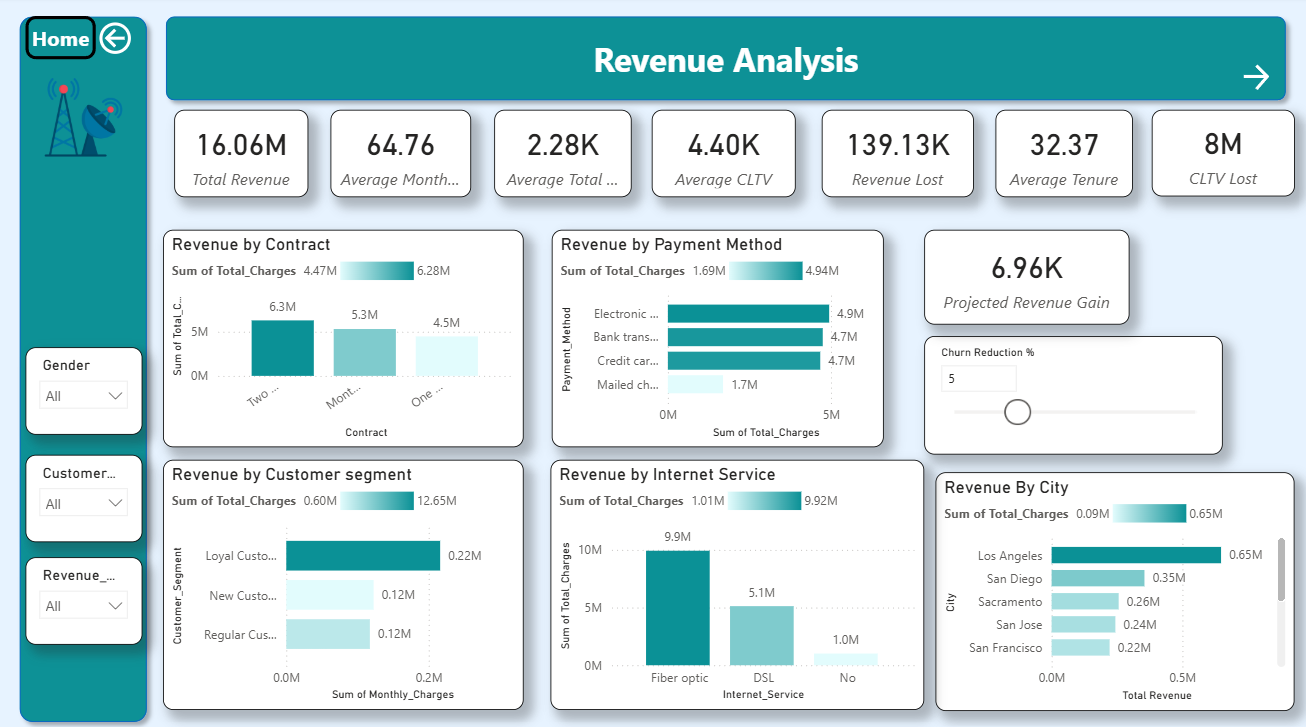

What the dashboard file says about the page in this screenshot:
{"tool":"powerbi","page":{"name":"Revenue Analysis","canvas":[1280,720],"ordinal":3},"visuals":[{"type":"card","fields":{"Values":["TELCO.Total Revenue"]},"box":[171.9,111.6,130.8,85.9],"z":0},{"type":"card","fields":{"Values":["TELCO.Average Monthly Charges"]},"box":[325.8,111.6,137.3,85.9],"z":1000},{"type":"card","fields":{"Values":["TELCO.Average Total Charges"]},"box":[484.9,111.6,134.7,85.9],"z":2000},{"type":"card","fields":{"Values":["TELCO.Average CLTV"]},"box":[640.1,111.6,141.1,85.9],"z":3000},{"type":"card","fields":{"Values":["TELCO.Revenue Lost"]},"box":[805.6,111.6,148.8,85.9],"z":4000},{"type":"card","fields":{"Values":["TELCO.CLTV Lost"]},"box":[1128.9,111.6,139.8,84.7],"z":5000},{"type":"card","fields":{"Values":["TELCO.Average Tenure"]},"box":[976.2,111.6,134.7,85.9],"z":6000},{"type":"shape","box":[155.2,11.5,1113.5,100.1],"z":7000},{"type":"clusteredBarChart","title":"Revenue By City","fields":{"Category":["TELCO.City"],"Y":["TELCO.Total Revenue"]},"box":[917.2,465.7,351.5,233.5],"z":8000},{"type":"shape","box":[12.8,11.5,142.4,708.1],"z":9000},{"type":"slicer","fields":{"Values":["TELCO.Gender"]},"box":[26.9,343.8,114.2,85.9],"z":10000},{"type":"slicer","fields":{"Values":["TELCO.Customer_Segment"]},"box":[26.9,449,114.2,85.9],"z":11000},{"type":"clusteredBarChart","title":"Revenue by Payment Method","fields":{"Category":["TELCO.Payment_Method"],"Y":["Sum(TELCO.Total_Charges)"]},"box":[541.4,228.3,324.6,212.9],"z":12000},{"type":"clusteredColumnChart","title":"Revenue by Contract","fields":{"Y":["Sum(TELCO.Total_Charges)"],"Category":["TELCO.Contract"]},"box":[161.6,228.3,352.8,212.9],"z":13000},{"type":"slicer","fields":{"Values":["TELCO.Revenue_Segment"]},"box":[26.9,549,114.2,85.9],"z":14000},{"type":"clusteredBarChart","title":"Revenue by Customer segment","fields":{"Category":["TELCO.Customer_Segment"],"Y":["Sum(TELCO.Monthly_Charges)"]},"box":[161.6,454.1,352.8,245],"z":15000},{"type":"clusteredColumnChart","title":"Revenue by Internet Service","fields":{"Y":["Sum(TELCO.Total_Charges)"],"Category":["TELCO.Internet_Service"]},"box":[540.1,454.1,365.6,245],"z":16000},{"type":"slicer","fields":{"Values":["Churn Reduction %.Churn Reduction %"]},"box":[906.4,332.9,292,116.3],"z":17000},{"type":"card","fields":{"Values":["TELCO.Projected Revenue Gain"]},"box":[906.4,228.6,200.8,92.5],"z":18000},{"type":"actionButton","box":[26.4,19.8,68.7,42.3],"z":19000},{"type":"actionButton","box":[93.8,21.1,60.8,41],"z":20000},{"type":"actionButton","box":[1212.6,62.1,67.4,34.4],"z":21000},{"type":"image","box":[45.2,79.5,77,78.3],"z":21001}]}

Visuals, with their boxes in screenshot pixels (x1, y1, x2, y2), scaled from the page's 1280x720 canvas onto the 1306x727 screenshot:
card - TELCO.Total Revenue: rect(175, 113, 309, 199)
card - TELCO.Average Monthly Charges: rect(332, 113, 473, 199)
card - TELCO.Average Total Charges: rect(495, 113, 632, 199)
card - TELCO.Average CLTV: rect(653, 113, 797, 199)
card - TELCO.Revenue Lost: rect(822, 113, 974, 199)
card - TELCO.CLTV Lost: rect(1152, 113, 1294, 198)
card - TELCO.Average Tenure: rect(996, 113, 1133, 199)
shape: rect(158, 12, 1294, 113)
"Revenue By City" clusteredBarChart: rect(936, 470, 1294, 706)
shape: rect(13, 12, 158, 726)
slicer - TELCO.Gender: rect(27, 347, 144, 434)
slicer - TELCO.Customer_Segment: rect(27, 453, 144, 540)
"Revenue by Payment Method" clusteredBarChart: rect(552, 231, 884, 445)
"Revenue by Contract" clusteredColumnChart: rect(165, 231, 525, 445)
slicer - TELCO.Revenue_Segment: rect(27, 554, 144, 641)
"Revenue by Customer segment" clusteredBarChart: rect(165, 459, 525, 706)
"Revenue by Internet Service" clusteredColumnChart: rect(551, 459, 924, 706)
slicer - Churn Reduction %.Churn Reduction %: rect(925, 336, 1223, 454)
card - TELCO.Projected Revenue Gain: rect(925, 231, 1130, 324)
actionButton: rect(27, 20, 97, 63)
actionButton: rect(96, 21, 158, 63)
actionButton: rect(1237, 63, 1305, 97)
image: rect(46, 80, 125, 159)
